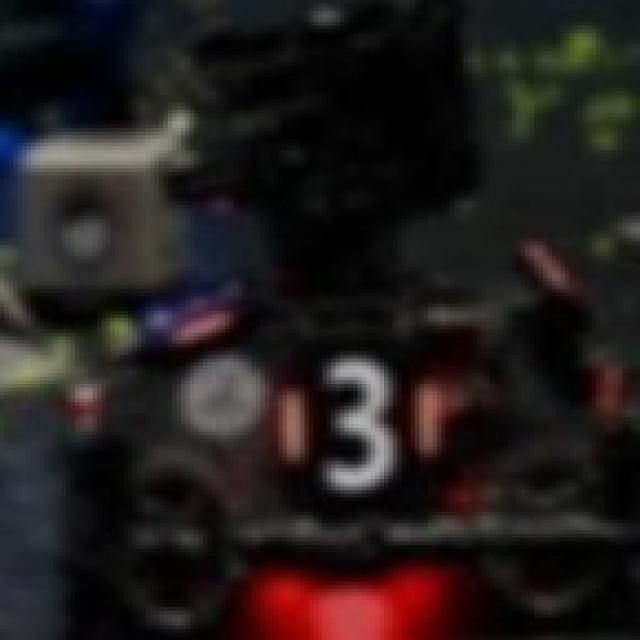R3: (278, 355, 437, 490)
